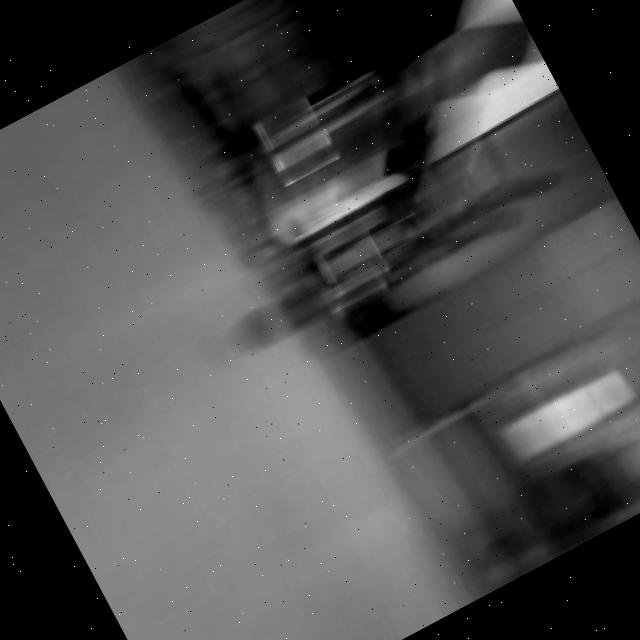ping-pong-ball: (226, 279, 321, 362)
